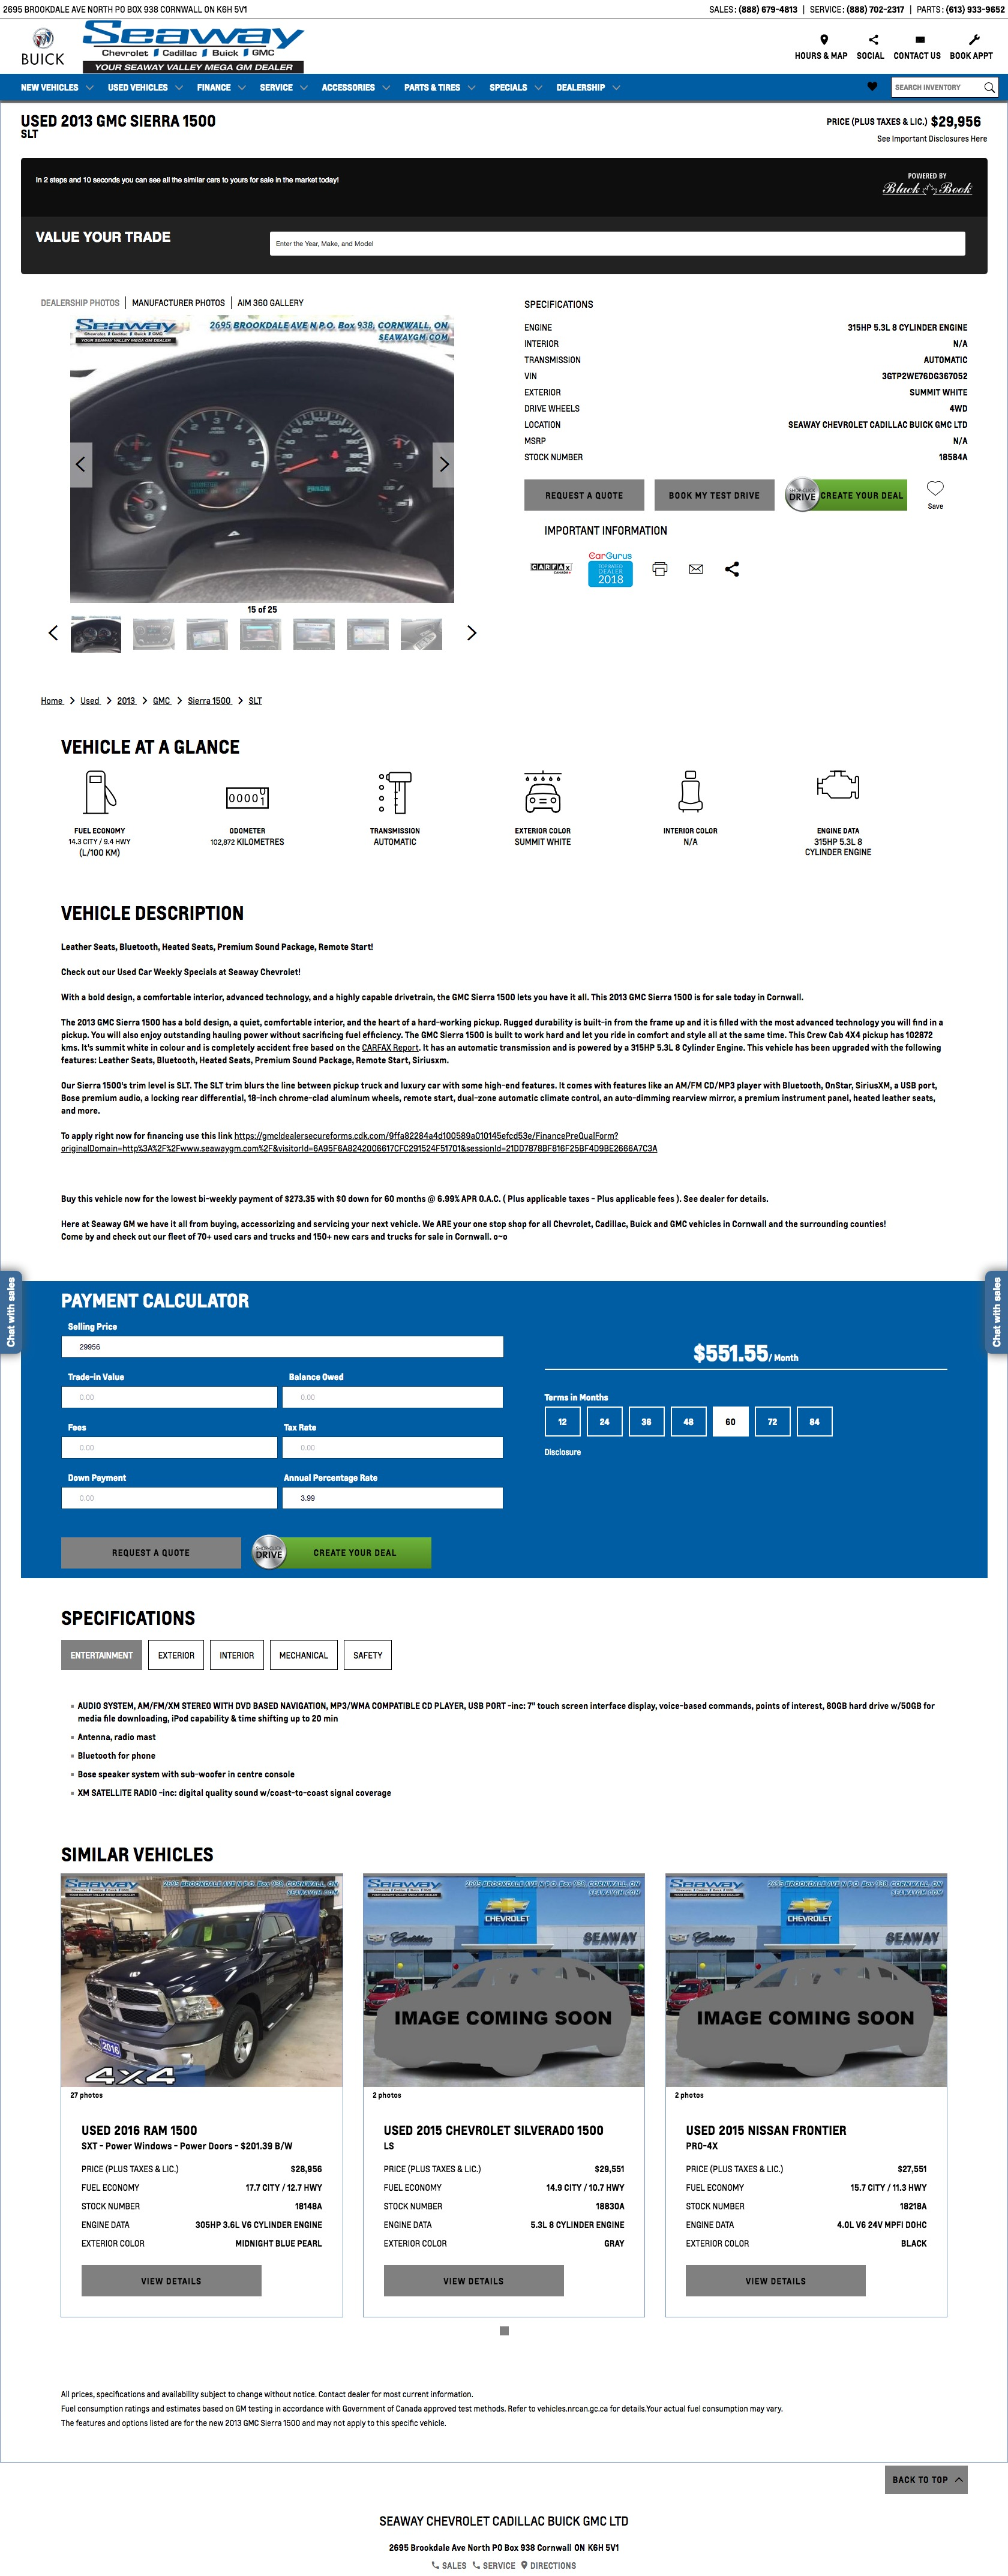car: (466, 626, 478, 641)
